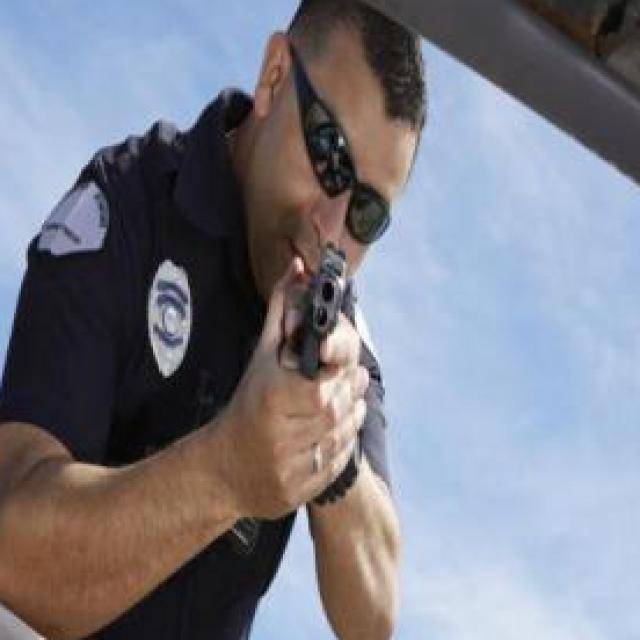pistol: (293, 237, 350, 381)
